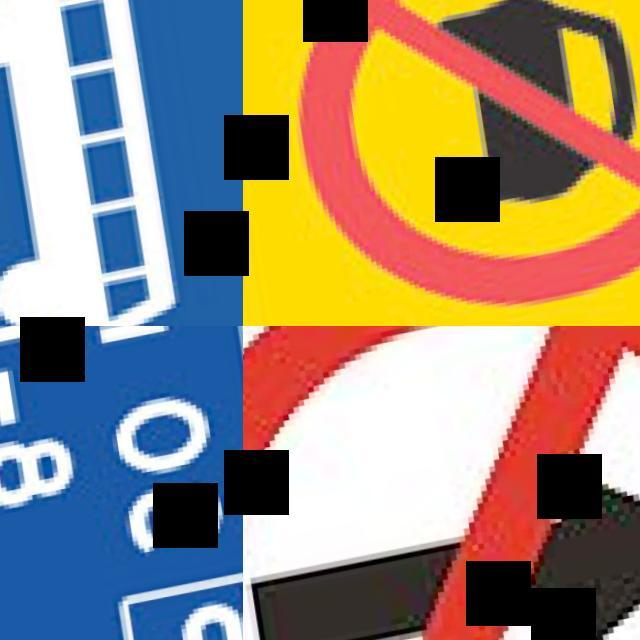120: (0, 326, 243, 640)
98: (0, 0, 243, 326)
No entry: (243, 326, 640, 640)
No entry for motor vehicles: (243, 0, 640, 326)
